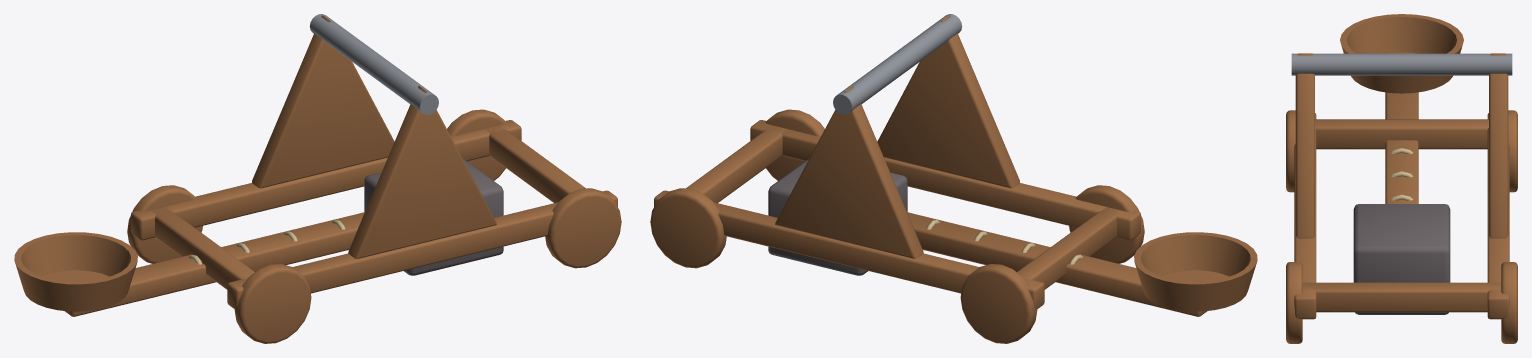
Rendered from catapult.fbx.
3 renders of one model, left to right at view 1: azimuth 30°, elevation 25°; view 2: azimuth 150°, elevation 25°; view 3: azimuth 270°, elevation 25°, orthographic.
Parts seen in each view (by area): view 1: catapult, Arm; view 2: catapult, Arm; view 3: catapult, Arm.
Boxes of the visible parts, x1,y1,x2,y2 form: catapult: (127, 14, 621, 343); Arm: (14, 158, 503, 316); catapult: (650, 14, 1144, 343); Arm: (768, 158, 1257, 316); catapult: (1286, 53, 1517, 343); Arm: (1340, 14, 1463, 314).
Size of the model in its own units: 4.55 by 1.69 by 1.68.
